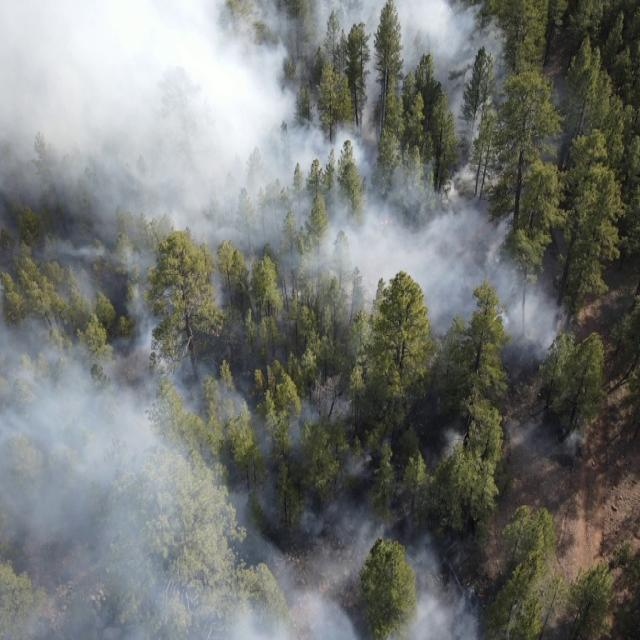fire: (377, 219, 398, 230)
smoke: (0, 0, 483, 640), (483, 12, 520, 286), (496, 269, 566, 356), (506, 415, 582, 471), (537, 71, 578, 163)
